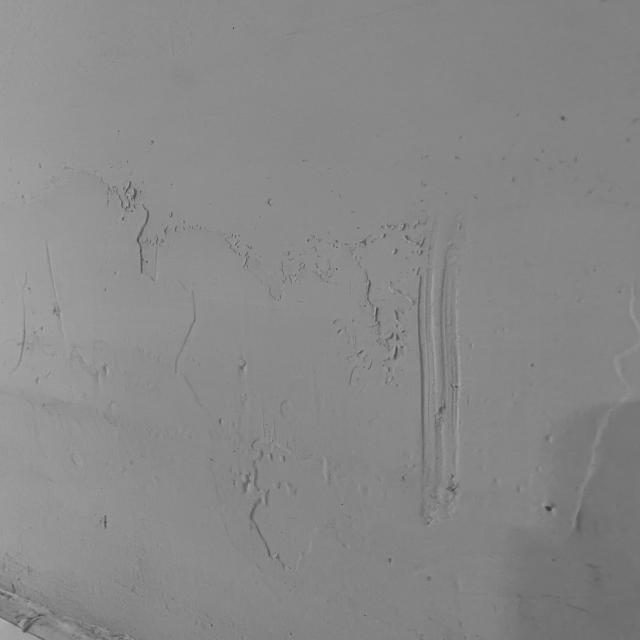rough and patchy surface: (0, 145, 621, 640)
